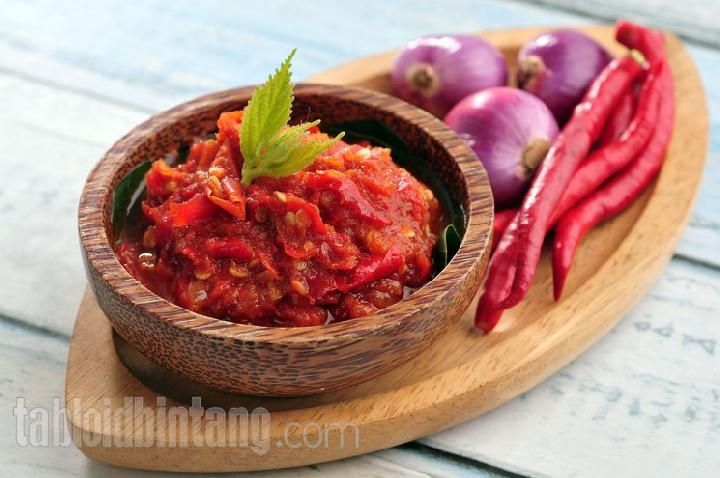sambal: (122, 104, 437, 325)
